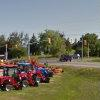Tractor: (4, 48, 58, 97)
